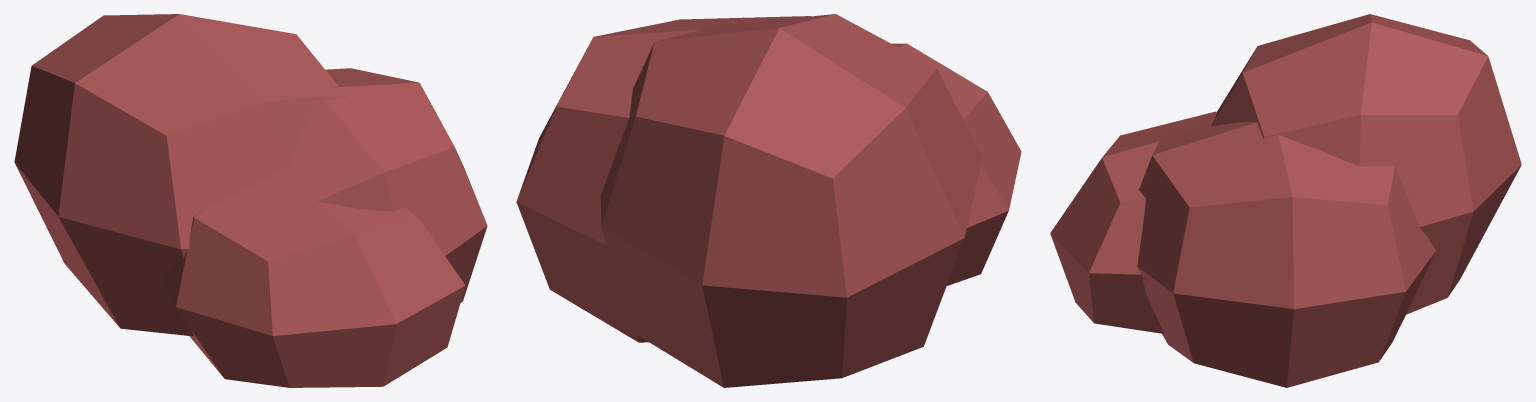
File: DirtBlock.fbx
3 renders of one model, left to right at view 1: azimuth 30°, elevation 25°; view 2: azimuth 150°, elevation 25°; view 3: azimuth 270°, elevation 25°, orthographic. The views are drawn at different scales.
Visible parts, largest first — view 1: DirtBlock; view 2: DirtBlock; view 3: DirtBlock.
Part boxes in pixels (left/top/right/bottom): DirtBlock: left=14, top=14, right=487, bottom=387; DirtBlock: left=516, top=14, right=1021, bottom=387; DirtBlock: left=1050, top=14, right=1521, bottom=387.
Bounding box in the file's own units: 125 × 101 × 141.
